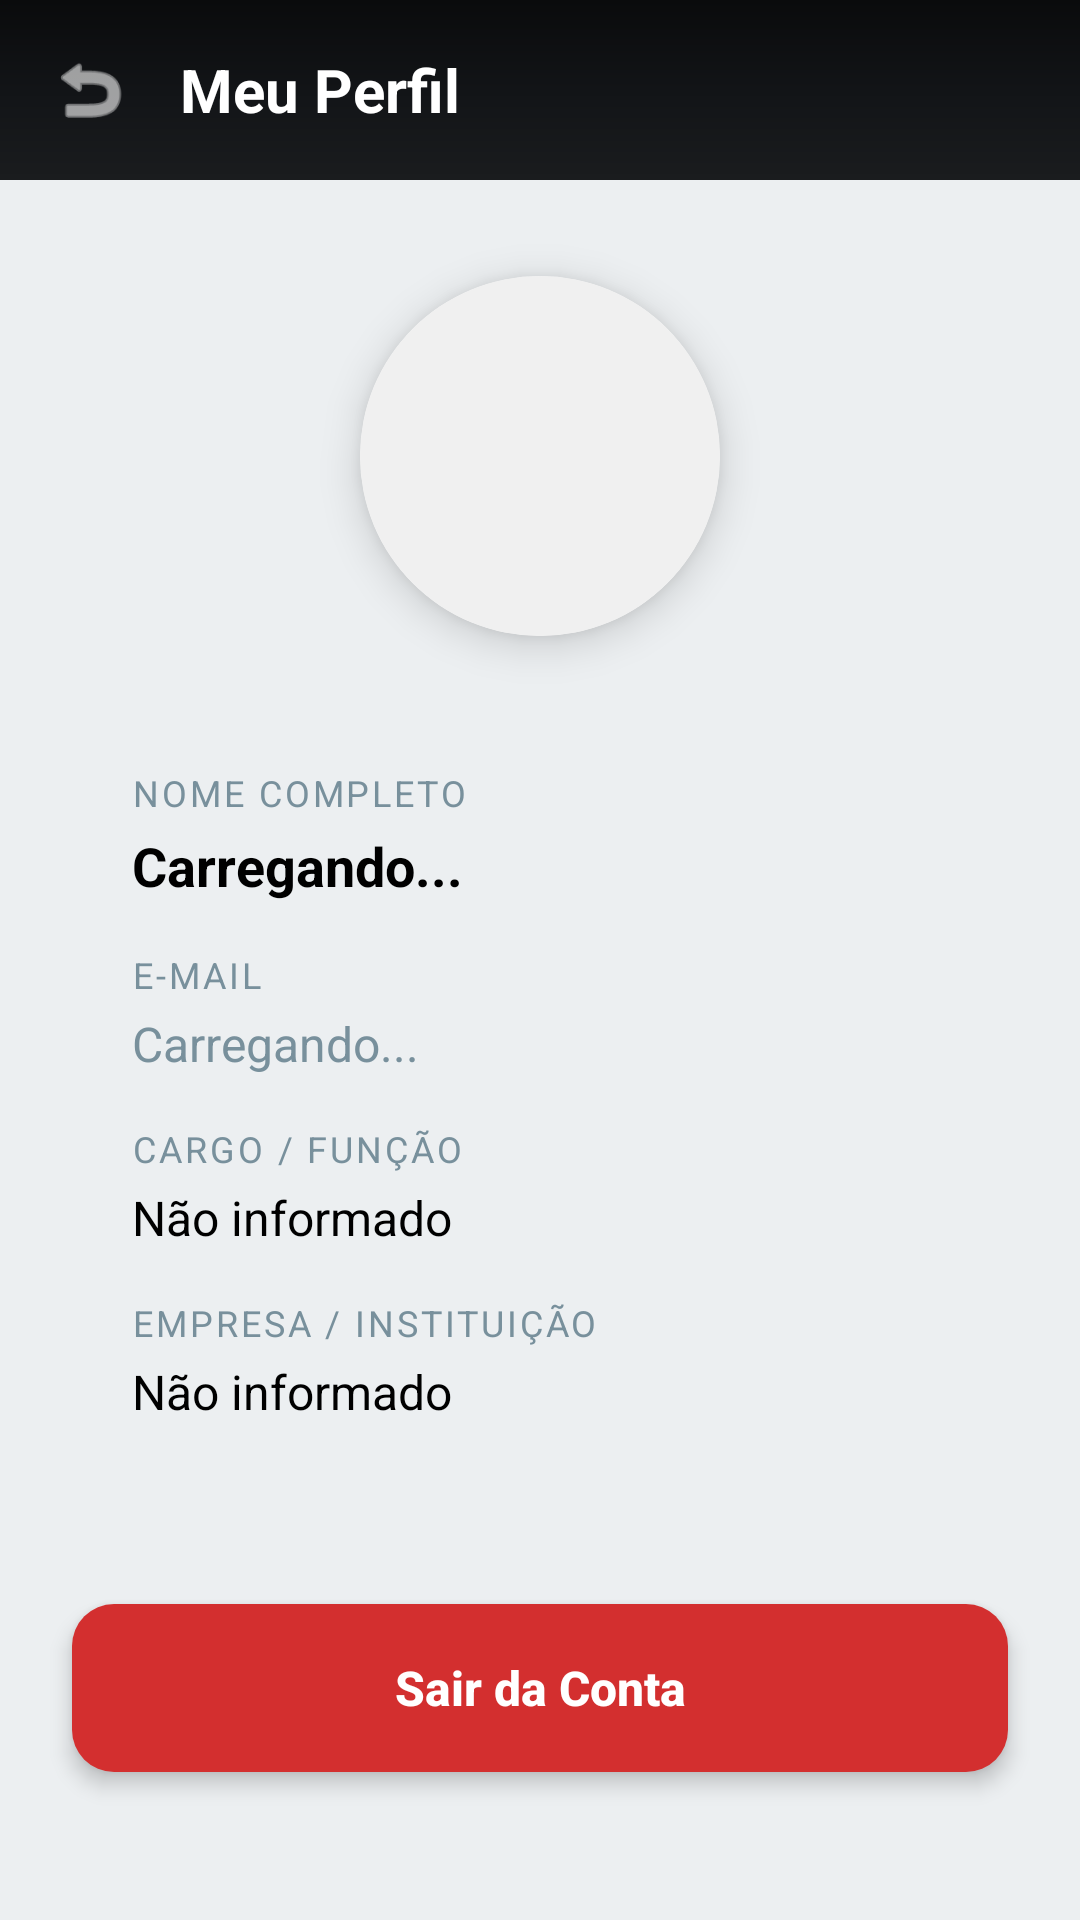

Where icons sit on this 1080px x 1920px app screen, as bbox(x1, y1, x2, y2):
revert: bbox(61, 63, 122, 118)
